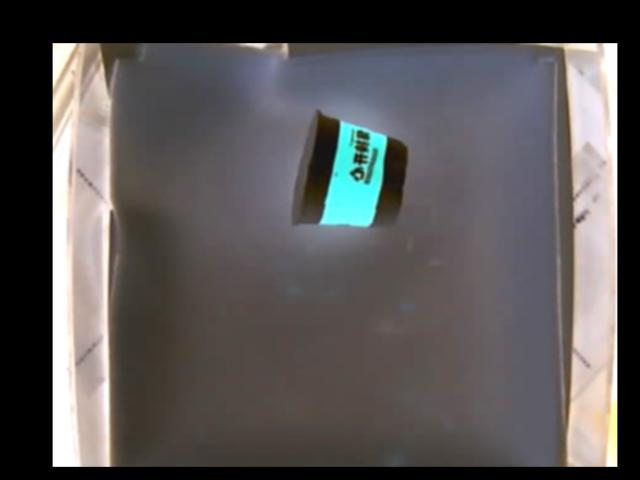Cup: (289, 108, 407, 226)
